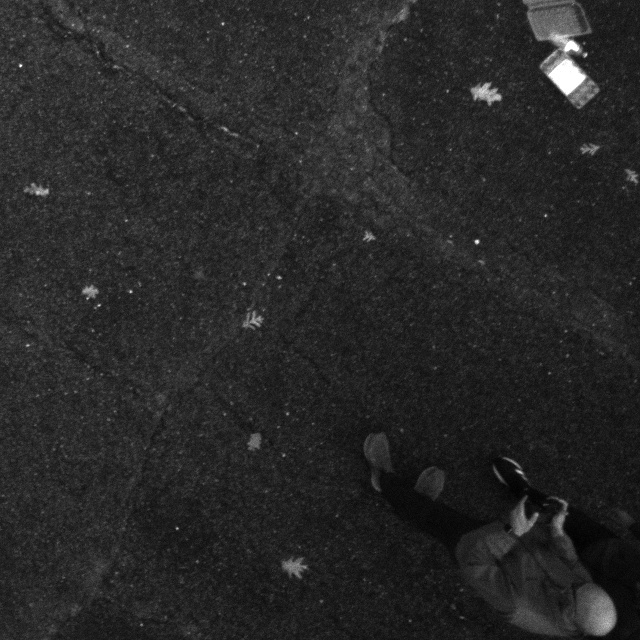bottle: (546, 33, 583, 57)
container: (536, 57, 599, 106)
